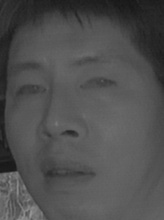eye: (79, 75, 116, 96), (15, 80, 47, 98)
mouth: (35, 157, 98, 191)
